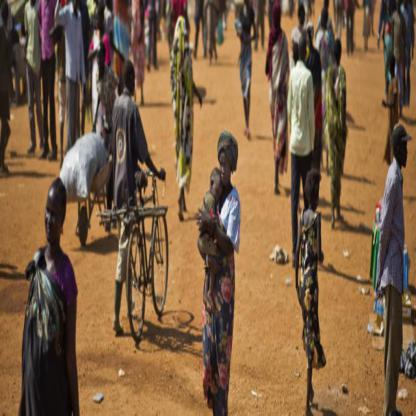face: (46, 193, 61, 242), (220, 156, 231, 185), (213, 178, 223, 204), (401, 142, 409, 168), (314, 185, 320, 210), (131, 70, 136, 93), (98, 51, 104, 70)
